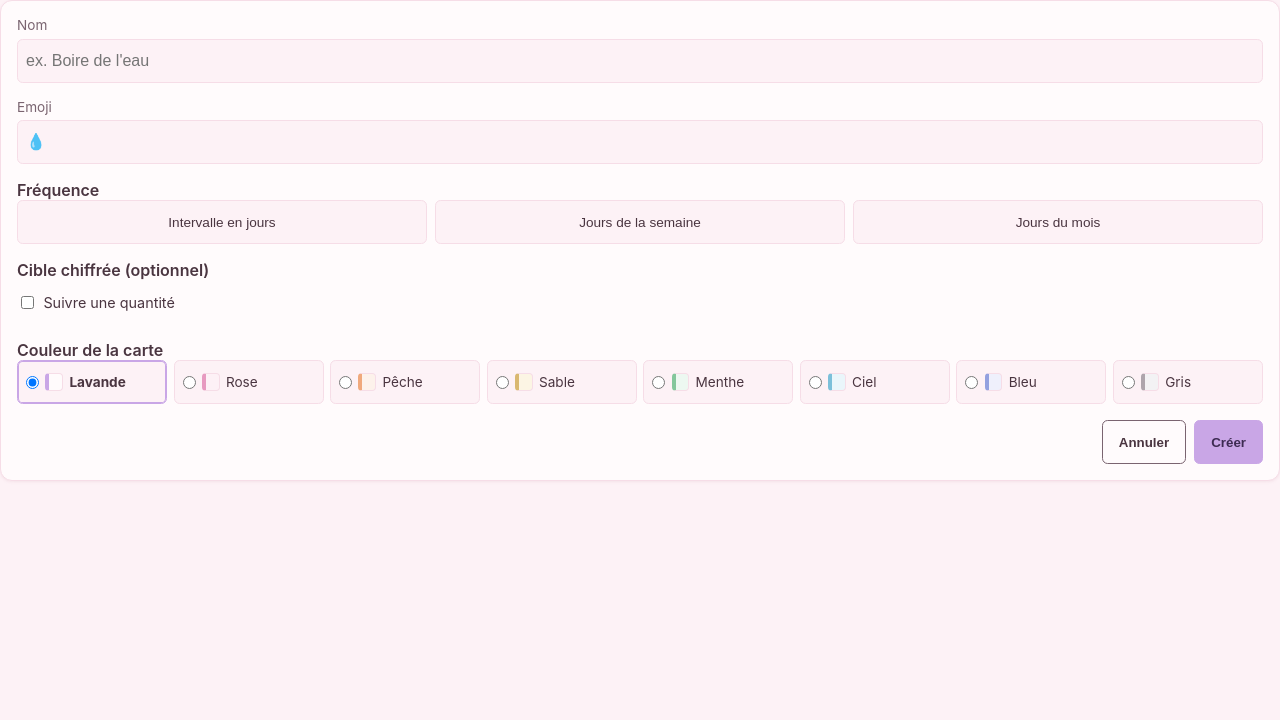
it: HabitForm (US-001) › bascule de mode réinitialise l’autre mode (scénario 3 — exclusivité)
Click the button "Intervalle en jours" at [222, 222], box x1=17 y1=200 x2=427 y2=244
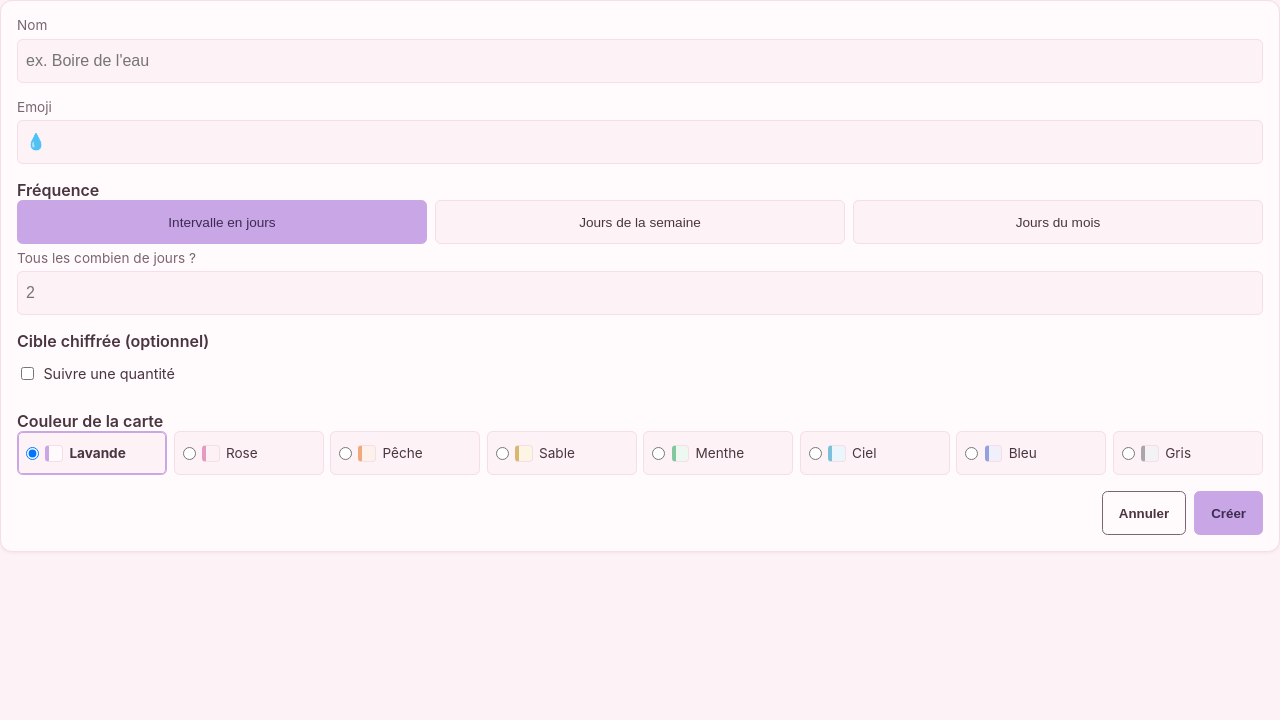
Type "5" into the number field labelled "Tous les combien de jours ?" at [640, 293], box x1=17 y1=271 x2=1263 y2=315
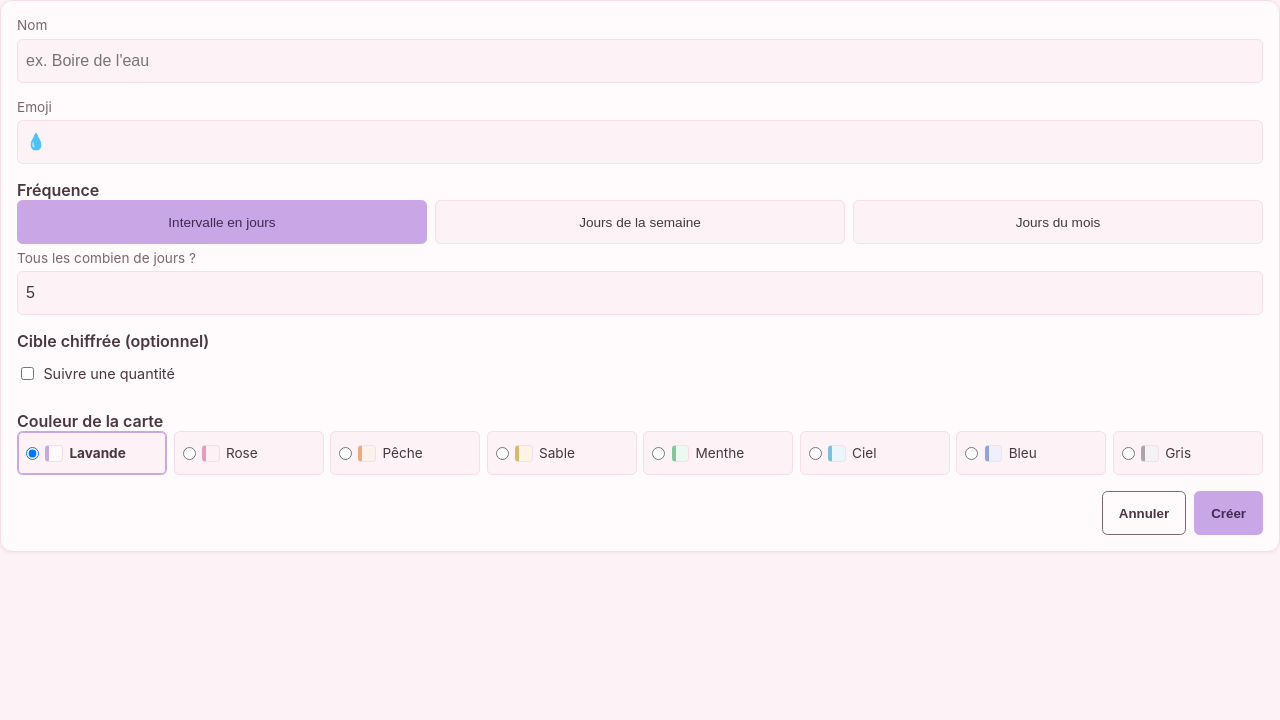
Click the button "Jours de la semaine" at [640, 222], box x1=435 y1=200 x2=845 y2=244
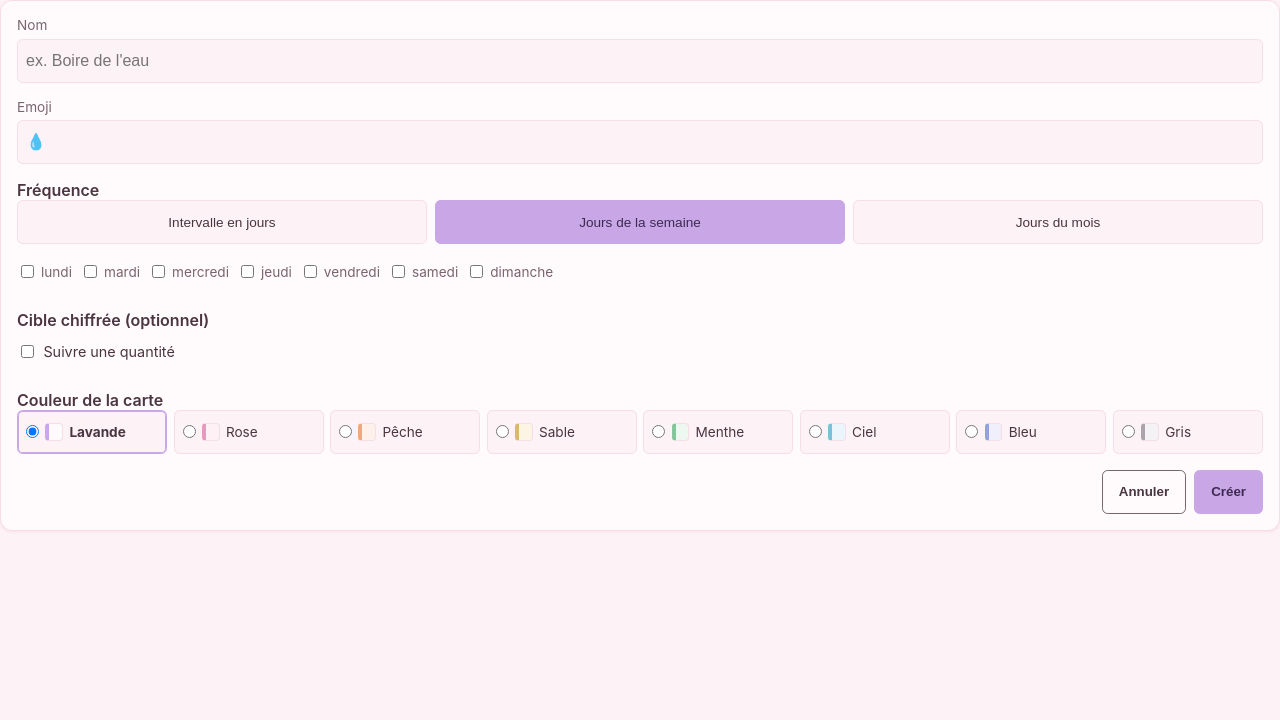
Now the label labelled "Tous les combien de jours ?" is gone
Now the checkbox labelled "lundi" is not checked, box x1=21 y1=265 x2=34 y2=278
